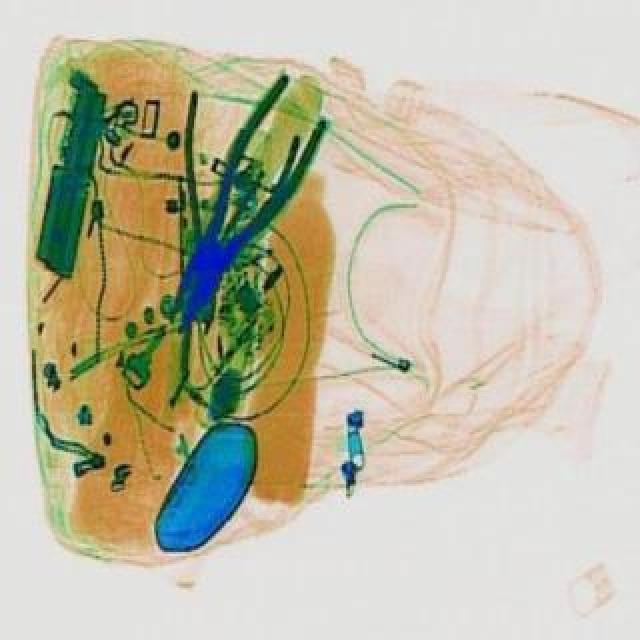wrench: (140, 64, 346, 340), (116, 86, 308, 336)
